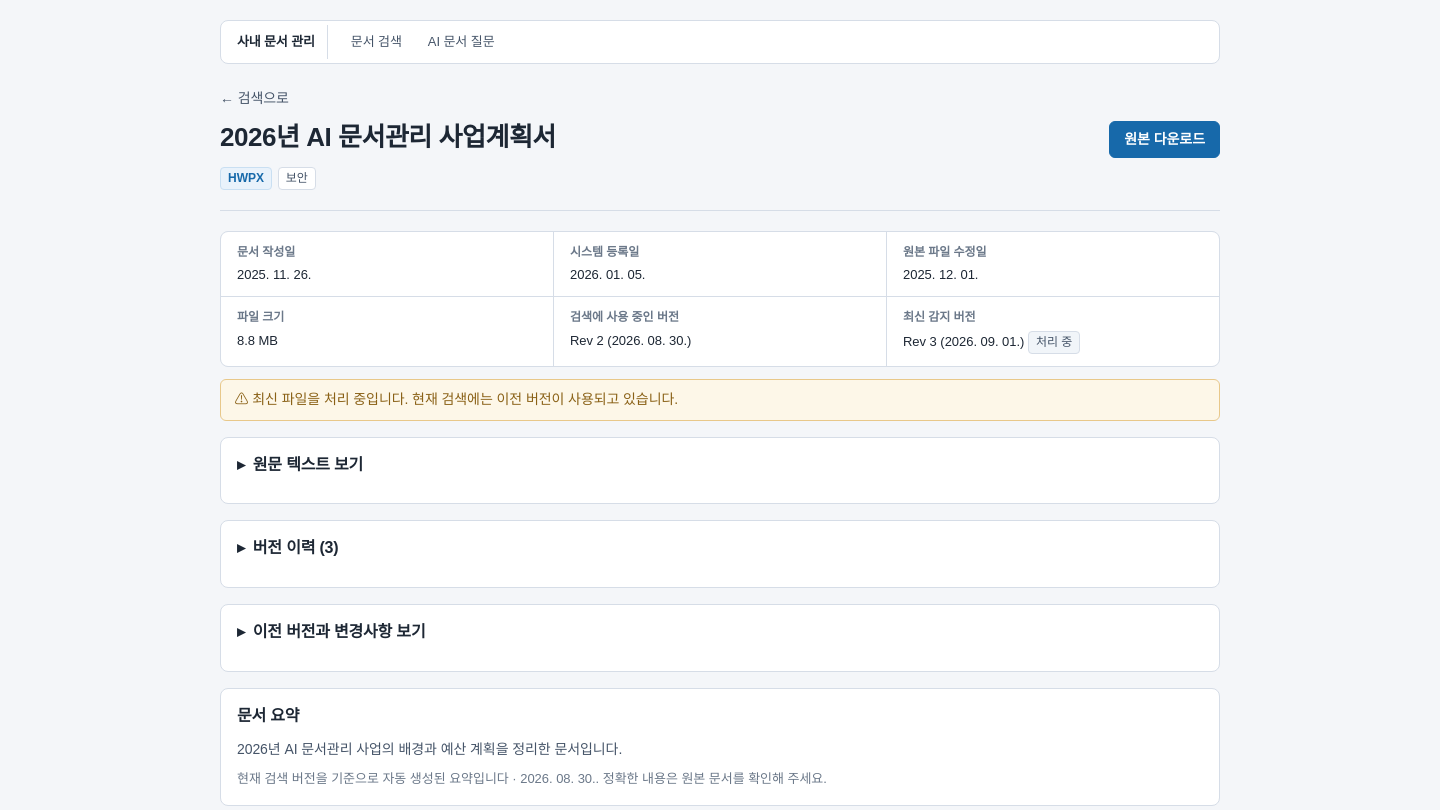
Test: DocumentPage › renders version history with localised, unmerged statuses
This screenshot has width=1440, height=810.
Step 1. Click the button "▸ 버전 이력 (3)" → (289, 548), box [237,538,1203,559]
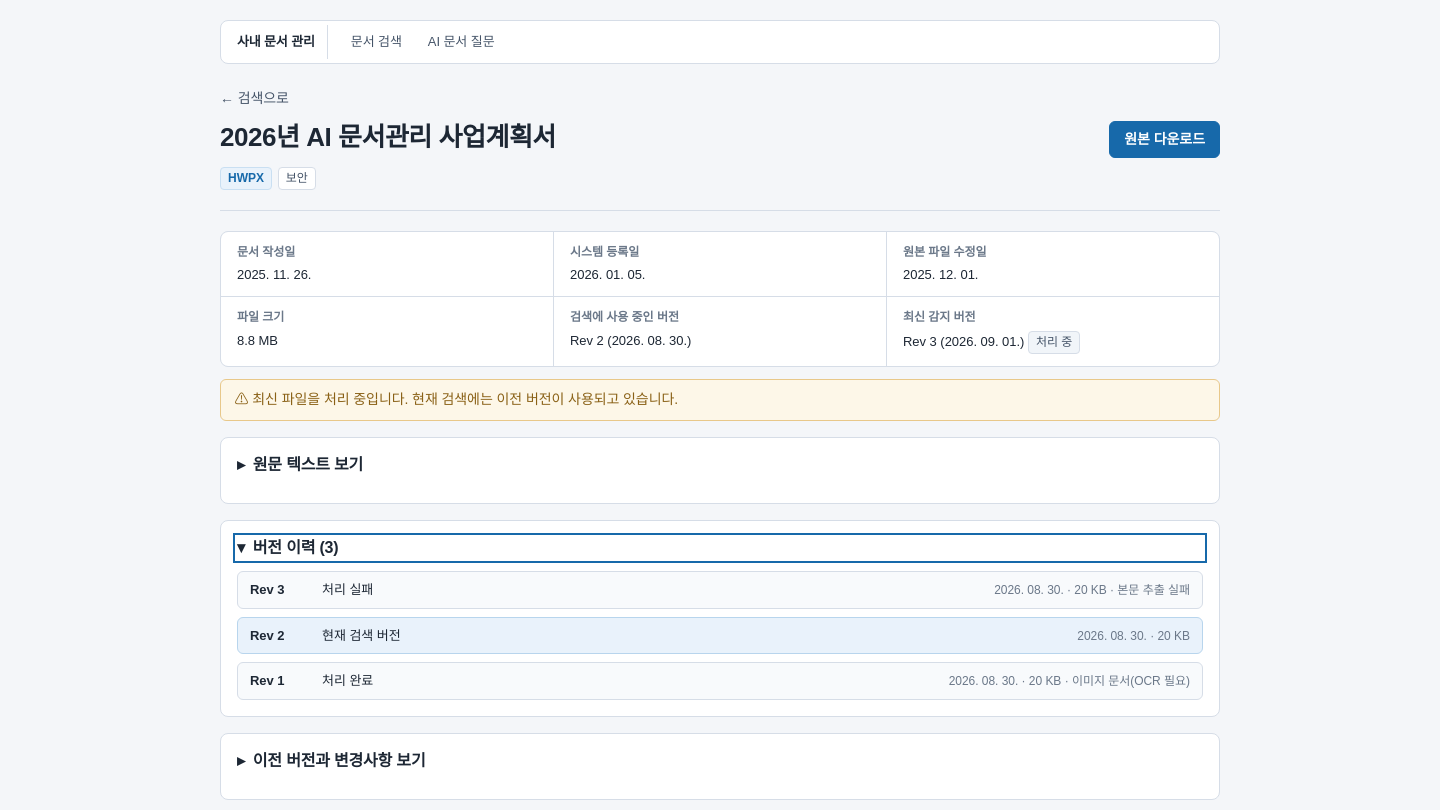
Expected: the text "Rev 3" is shown, [250,582,284,597]
Expected: the text "처리 실패" is shown, [322,580,373,600]
Expected: the text "현재 검색 버전" is shown, [322,626,401,645]
